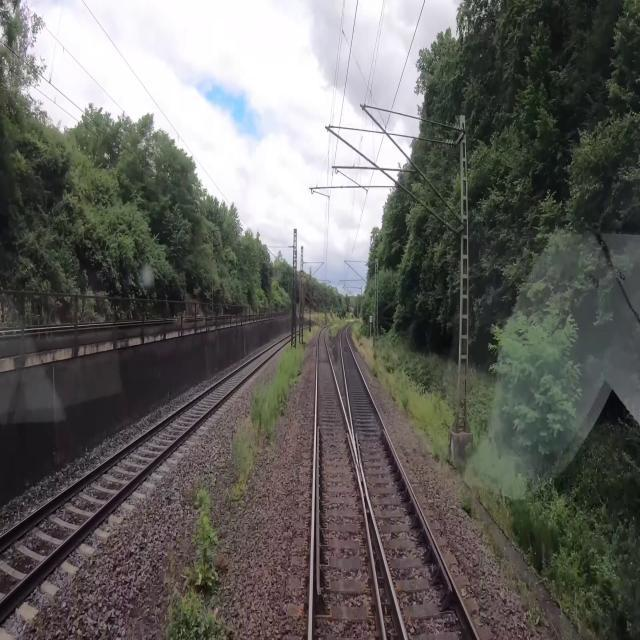Plant: (221, 341, 306, 502), (168, 490, 228, 639), (530, 599, 553, 632), (299, 325, 320, 344), (491, 540, 504, 559), (459, 498, 472, 516), (352, 322, 361, 333), (372, 367, 378, 377)
